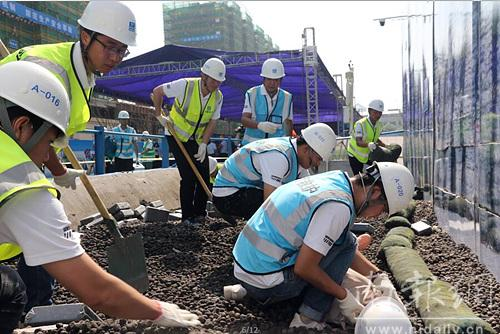helmet: (1, 62, 71, 150), (366, 159, 416, 223), (78, 1, 139, 48), (301, 124, 340, 165), (201, 59, 229, 83), (260, 58, 288, 81), (368, 100, 387, 113), (210, 156, 219, 176), (118, 111, 131, 121), (144, 132, 150, 136)
